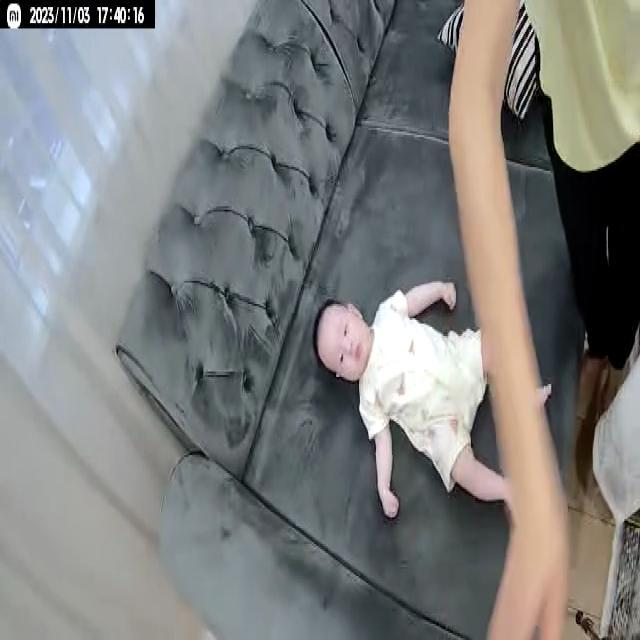baby: (308, 274, 555, 546)
